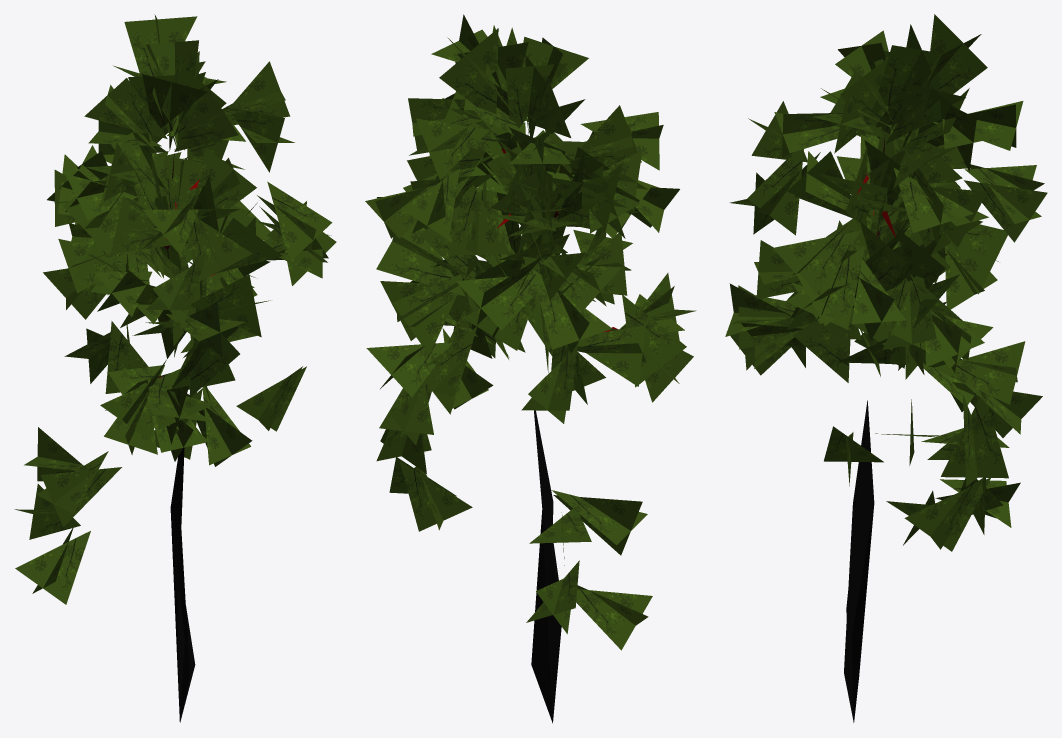
File: birch6 lod4.FBX
3 views of the same model, side by side, from view 1: azimuth 30°, elevation 25°; view 2: azimuth 150°, elevation 25°; view 3: azimuth 270°, elevation 25° (orthographic). The views are drawn at different scales.
Visible parts, largest first — view 1: birch6_LOD4; view 2: birch6_LOD4; view 3: birch6_LOD4.
Boxes of the visible parts, x1,y1,x2,y2 form: birch6_LOD4: (14, 14, 336, 722); birch6_LOD4: (365, 14, 696, 723); birch6_LOD4: (725, 14, 1047, 722).
Bounding box in the file's own units: 54591 × 127053 × 51833.
